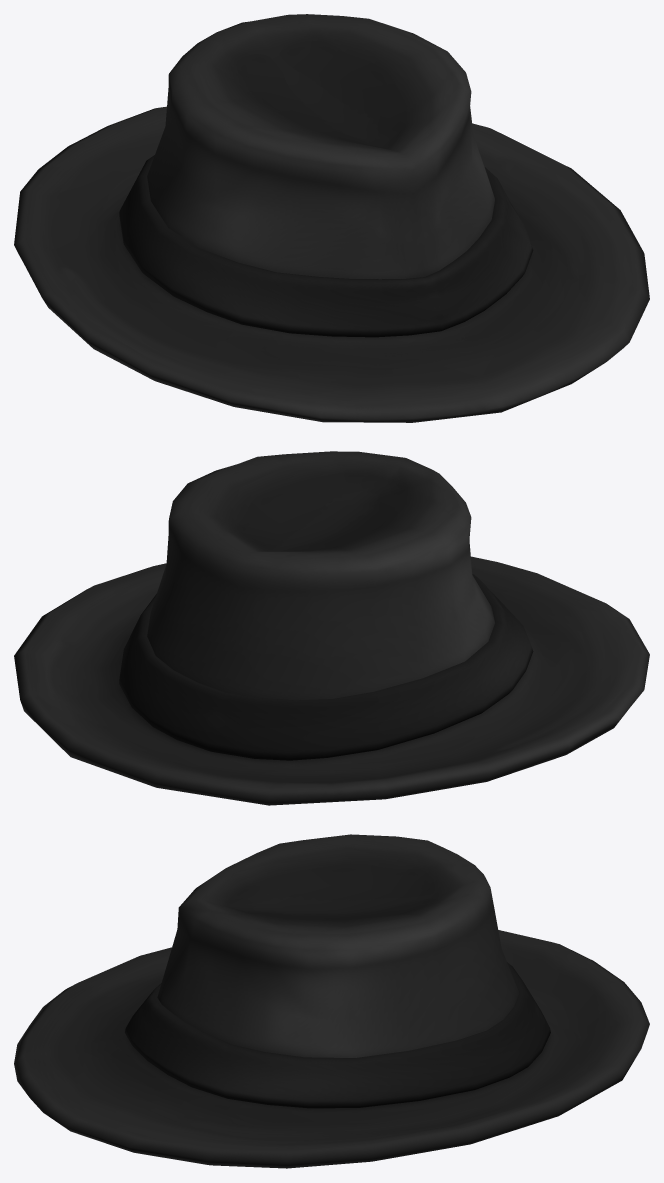
The model's file is smuggler-fedora.glb.
3 views of the same model, one above another, from view 1: azimuth 30°, elevation 25°; view 2: azimuth 150°, elevation 25°; view 3: azimuth 270°, elevation 25° (orthographic). The views are drawn at different scales.
Visible parts, largest first — view 1: fedora; view 2: fedora; view 3: fedora.
Boxes of the visible parts, box(x1,y1,x2,y2) form: fedora: box(14, 14, 649, 422); fedora: box(14, 451, 649, 805); fedora: box(14, 834, 649, 1168).
Bounding box in the file's own units: 3.9 × 1.46 × 4.42.
Materials: 1 (1 with a texture image).
